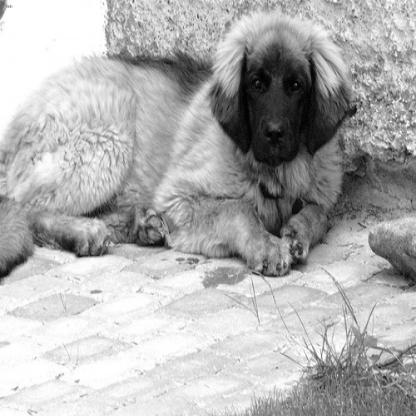Leonberger: (3, 10, 362, 301)
